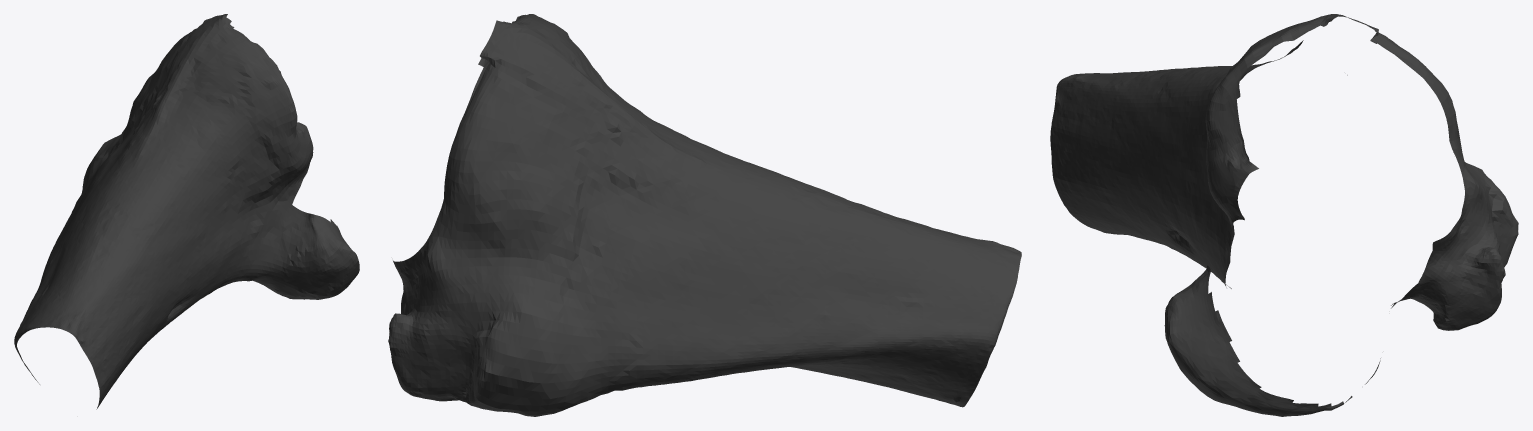
The picture shows the model from 3 angles, left to right: view 1: azimuth 30°, elevation 25°; view 2: azimuth 150°, elevation 25°; view 3: azimuth 270°, elevation 25°; orthographic projection. The views are drawn at different scales.
Visible parts, largest first — view 1: Group26139; view 2: Group26139; view 3: Group26139.
Boxes of the visible parts, x1,y1,x2,y2 form: Group26139: (14,14,359,409); Group26139: (388,14,1021,416); Group26139: (1050,14,1518,416).
Size of the model in its own units: 1.8 by 1.3 by 1.5.
Materials: 1 (1 with a texture image).
